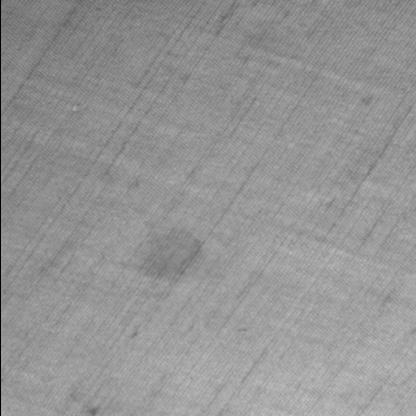oil spot: (128, 224, 206, 286)
